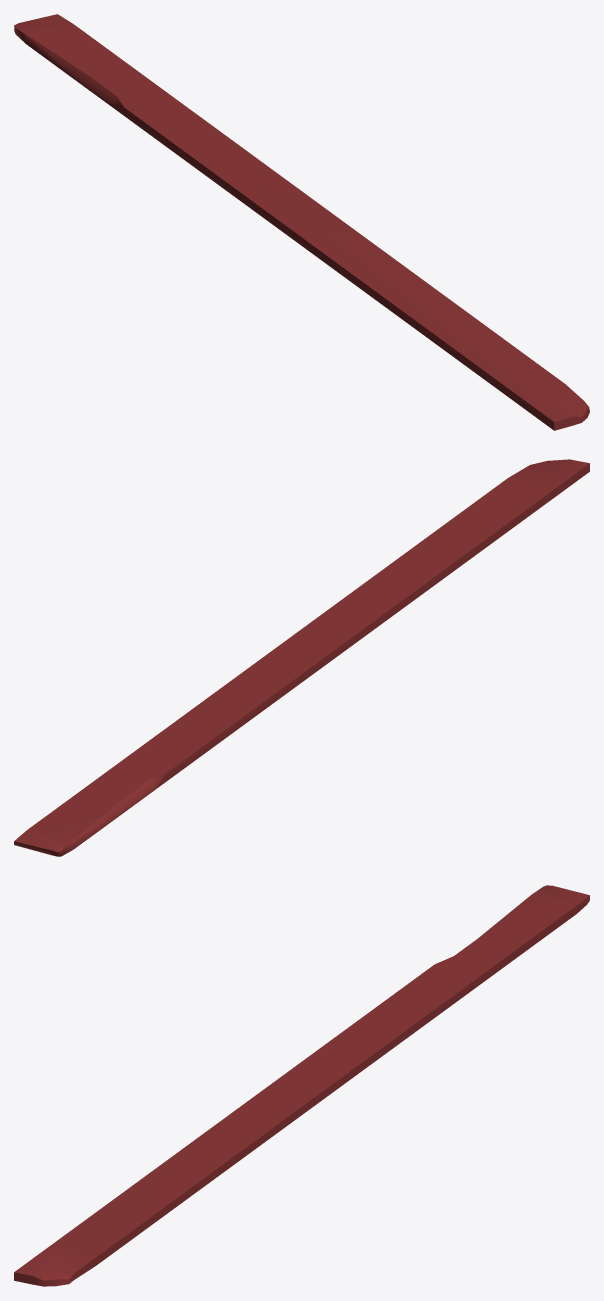
File: SM_WoodPlank03.fbx
3 views of the same model, one above another, from view 1: azimuth 30°, elevation 25°; view 2: azimuth 150°, elevation 25°; view 3: azimuth 330°, elevation 25° (orthographic). The views are drawn at different scales.
Visible parts, largest first — view 1: WoodPlank03; view 2: WoodPlank03; view 3: WoodPlank03.
Part boxes in pixels (<box>): WoodPlank03: <box>14,14,589,430</box>; WoodPlank03: <box>14,459,589,856</box>; WoodPlank03: <box>14,885,589,1286</box>.
Size of the model in its own units: 15.1 by 2.73 by 300.
